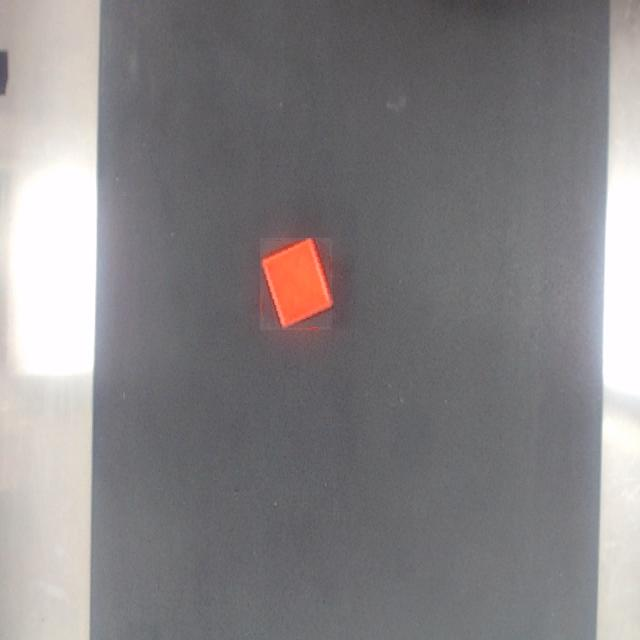Rojo: (261, 238, 332, 330)
